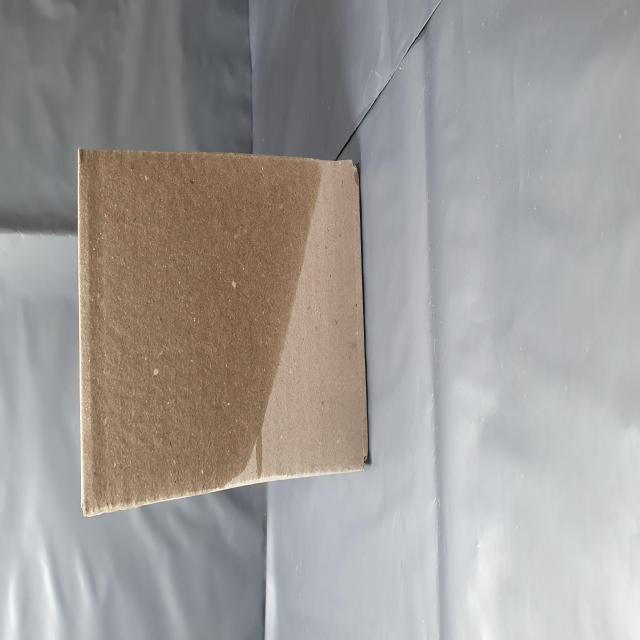wet: (78, 146, 278, 640)
